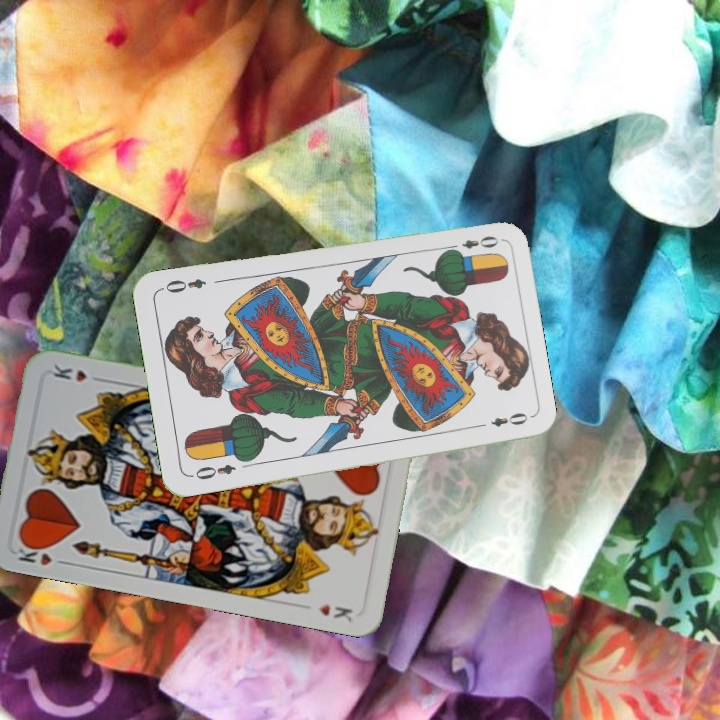EO: (443, 232, 502, 256), (186, 460, 238, 483)
HK: (14, 537, 71, 568)
